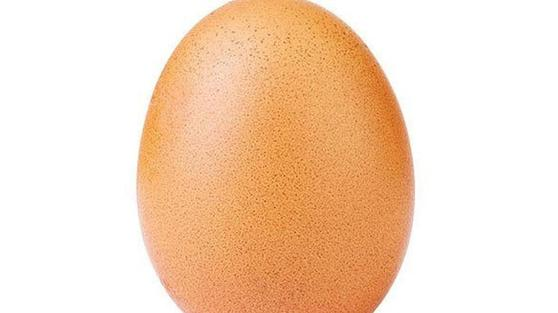egg: (134, 3, 420, 313)
